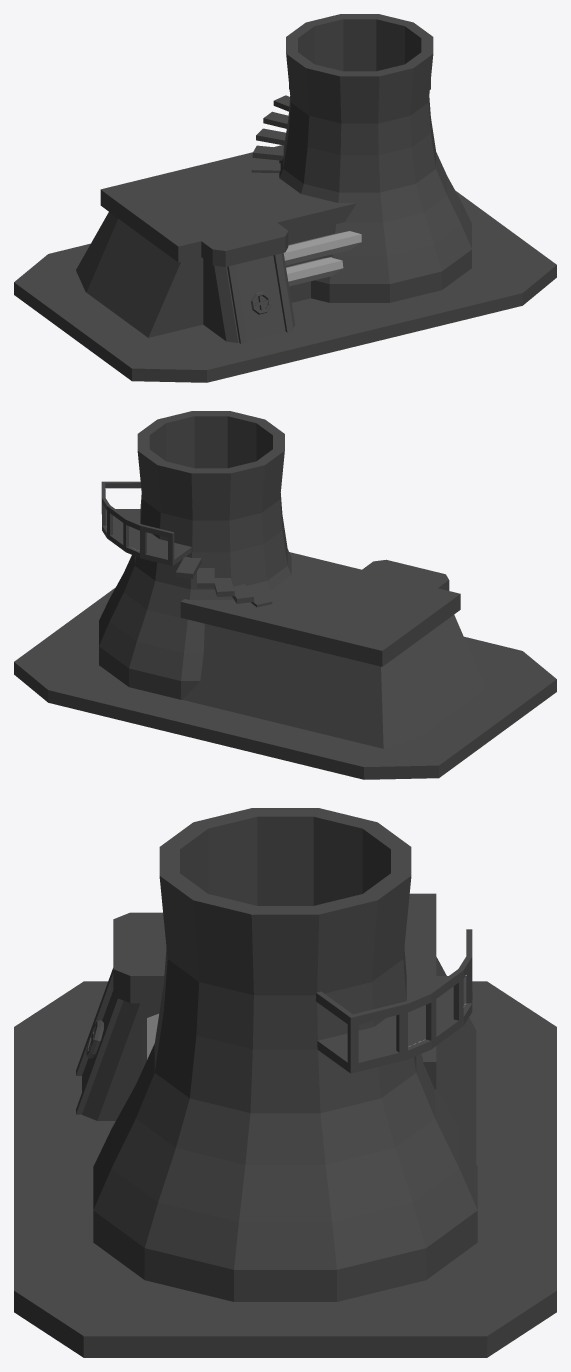
File: Reactor.glb
The picture shows the model from 3 angles, top to bottom: view 1: azimuth 30°, elevation 25°; view 2: azimuth 150°, elevation 25°; view 3: azimuth 270°, elevation 25°; orthographic projection. The views are drawn at different scales.
Visible parts, largest first — view 1: Cube.003; view 2: Cube.003; view 3: Cube.003.
Boxes of the visible parts, x1,y1,x2,y2 form: Cube.003: (14,14,556,382); Cube.003: (14,411,556,779); Cube.003: (14,808,556,1357).
Size of the model in its own units: 6.44 by 3.22 by 4.16.
Materials: 1 (1 with a texture image).
